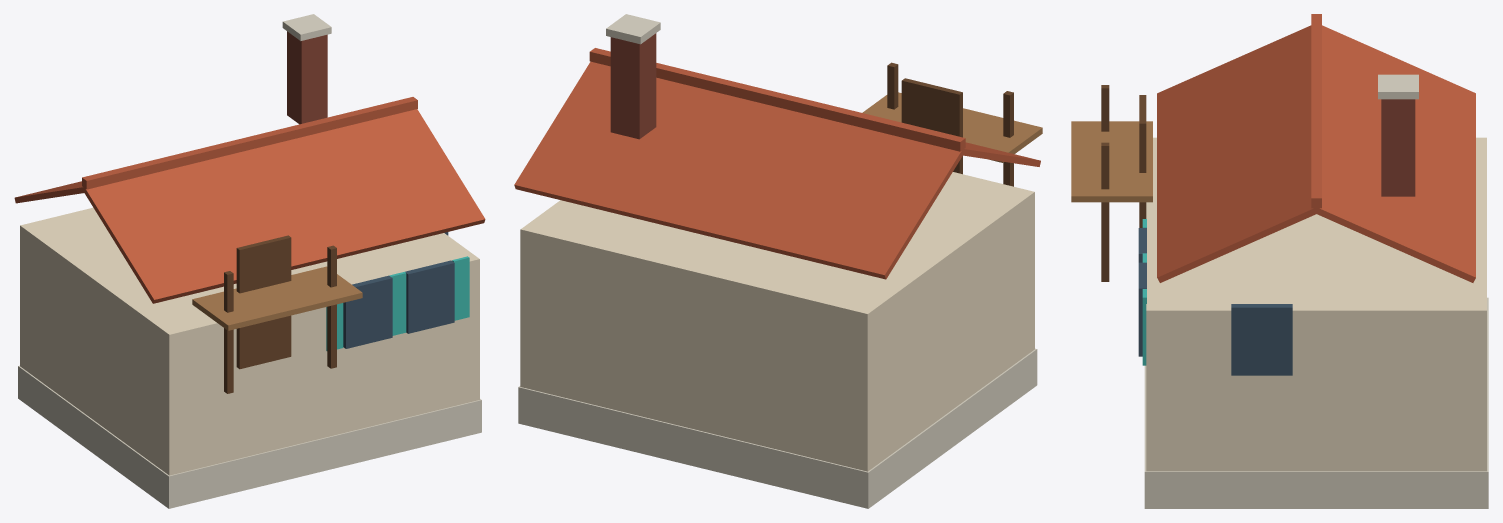
Rendered from building.house-detached.glb.
The picture shows the model from 3 angles, left to right: view 1: azimuth 30°, elevation 25°; view 2: azimuth 150°, elevation 25°; view 3: azimuth 270°, elevation 25°; orthographic projection. The views are drawn at different scales.
Parts seen in each view (by area): view 1: building.house-detached; view 2: building.house-detached; view 3: building.house-detached.
Boxes of the visible parts, <box> form: building.house-detached: <box>14,14,485,508</box>; building.house-detached: <box>514,14,1042,508</box>; building.house-detached: <box>1071,14,1488,508</box>.
Bounding box in the file's own units: 6.4 × 6.32 × 6.12.
